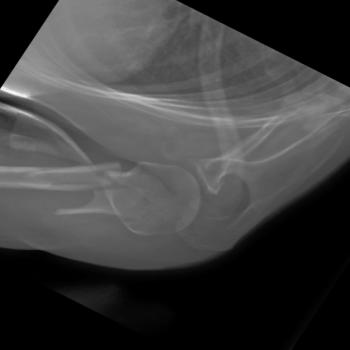Fracture: (64, 180, 100, 224)
